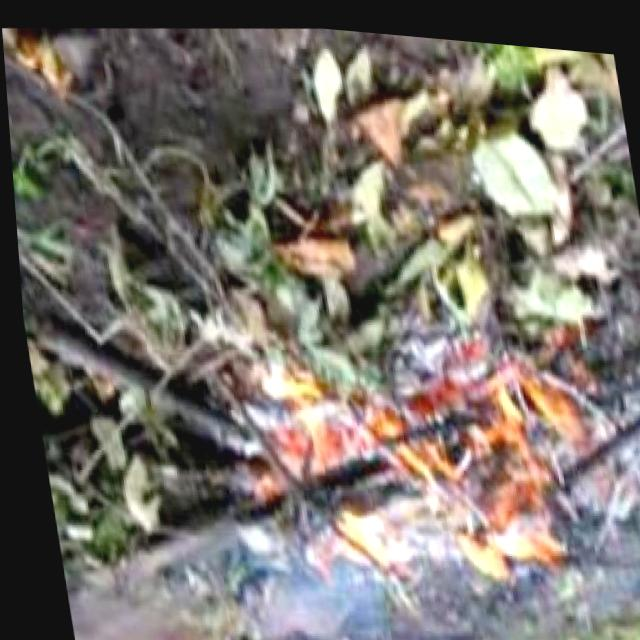Fire: (247, 334, 616, 586)
